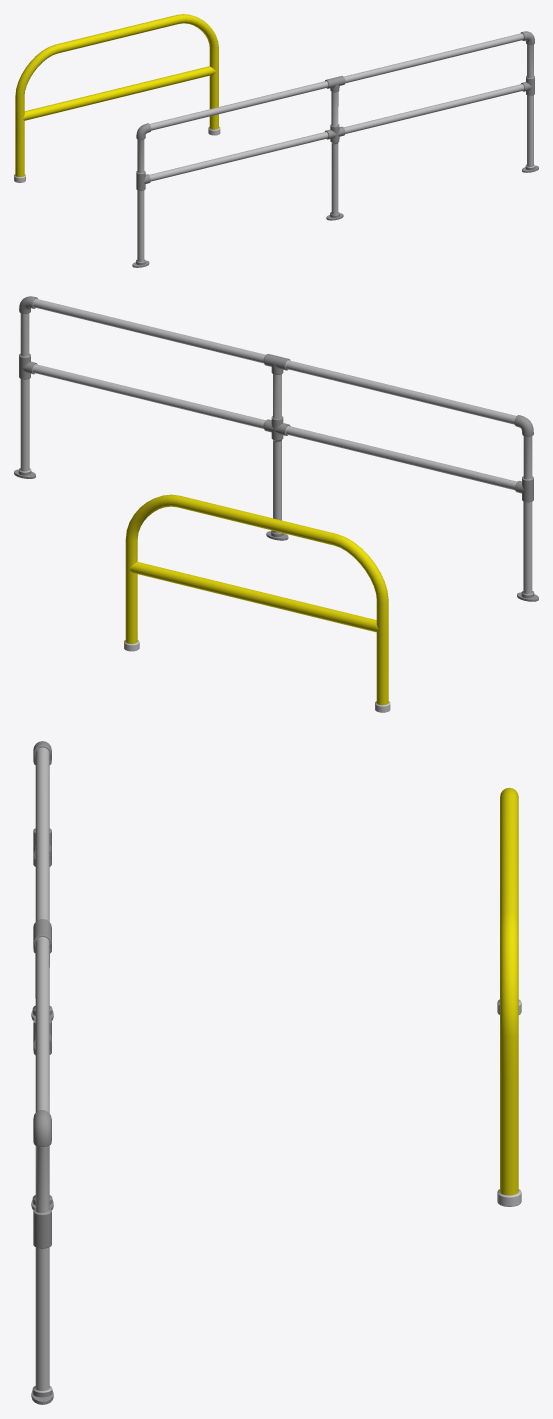
File: Railing.fbx
3 renders of one model, top to bottom at view 1: azimuth 30°, elevation 25°; view 2: azimuth 150°, elevation 25°; view 3: azimuth 270°, elevation 25°, orthographic. The views are drawn at different scales.
Visible parts, largest first — view 1: Square_Rail, Small_Rail; view 2: Square_Rail, Small_Rail; view 3: Square_Rail, Small_Rail.
Boxes of the visible parts, bbox=[...] form: Square_Rail: bbox=[132, 31, 538, 267]; Small_Rail: bbox=[14, 14, 220, 182]; Square_Rail: bbox=[14, 296, 538, 601]; Small_Rail: bbox=[124, 494, 390, 712]; Square_Rail: bbox=[31, 741, 53, 1404]; Small_Rail: bbox=[497, 787, 521, 1206].
Size of the model in its own units: 1007 by 330 by 525.
